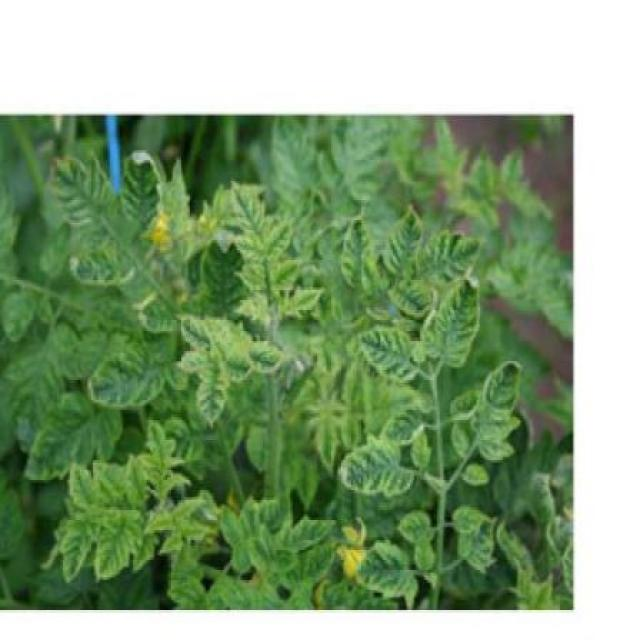Yellow Leaf Curl Virus: (51, 150, 159, 290), (86, 337, 187, 410), (427, 265, 486, 365), (332, 428, 412, 498), (469, 361, 524, 459), (353, 542, 424, 609), (418, 232, 492, 287), (380, 203, 430, 280), (97, 498, 143, 578), (358, 325, 418, 385), (144, 420, 180, 510), (276, 508, 337, 561), (338, 214, 373, 304), (194, 355, 230, 435), (62, 509, 97, 585), (245, 334, 295, 380), (65, 462, 105, 519), (183, 315, 223, 348), (260, 220, 293, 260)
